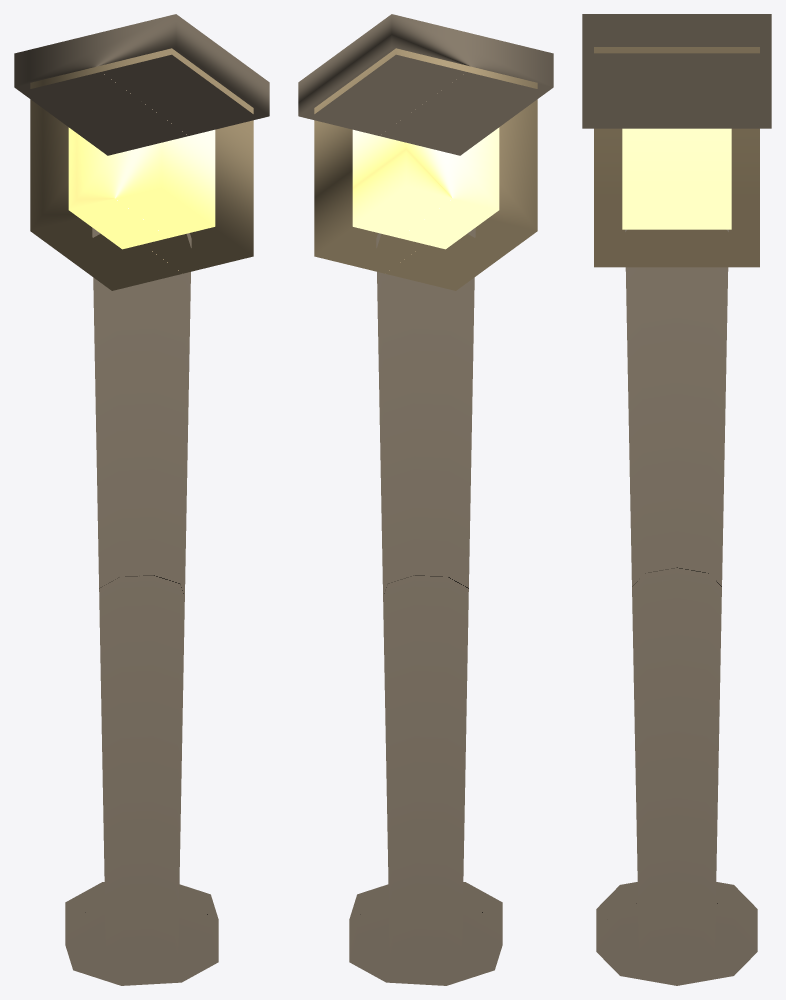
Rendered from prop_lantern.glb.
3 views of the same model, side by side, from view 1: azimuth 30°, elevation 25°; view 2: azimuth 150°, elevation 25°; view 3: azimuth 270°, elevation 25° (orthographic).
Size of the model in its own units: 8 by 41.8 by 8.
